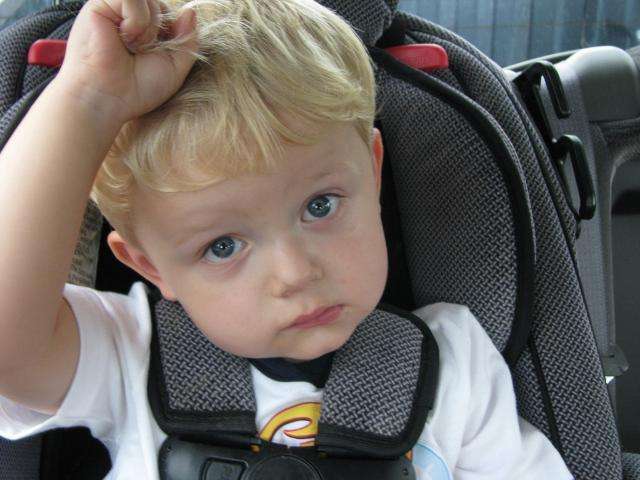SafeDriving: (284, 164, 357, 238), (186, 210, 261, 274)
Seatbelt: (146, 290, 438, 480)
